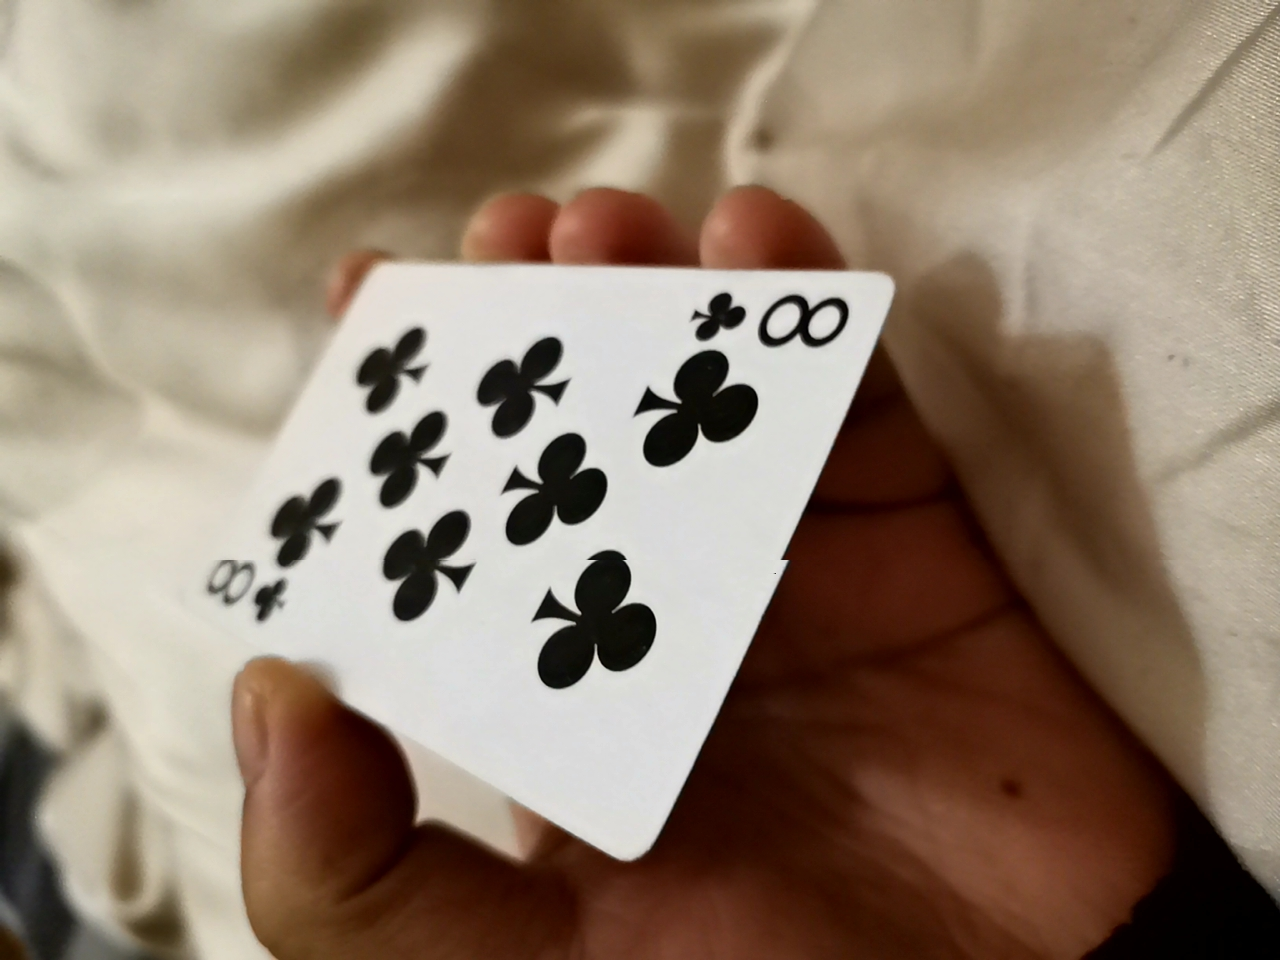mh 8: (178, 251, 902, 864)
